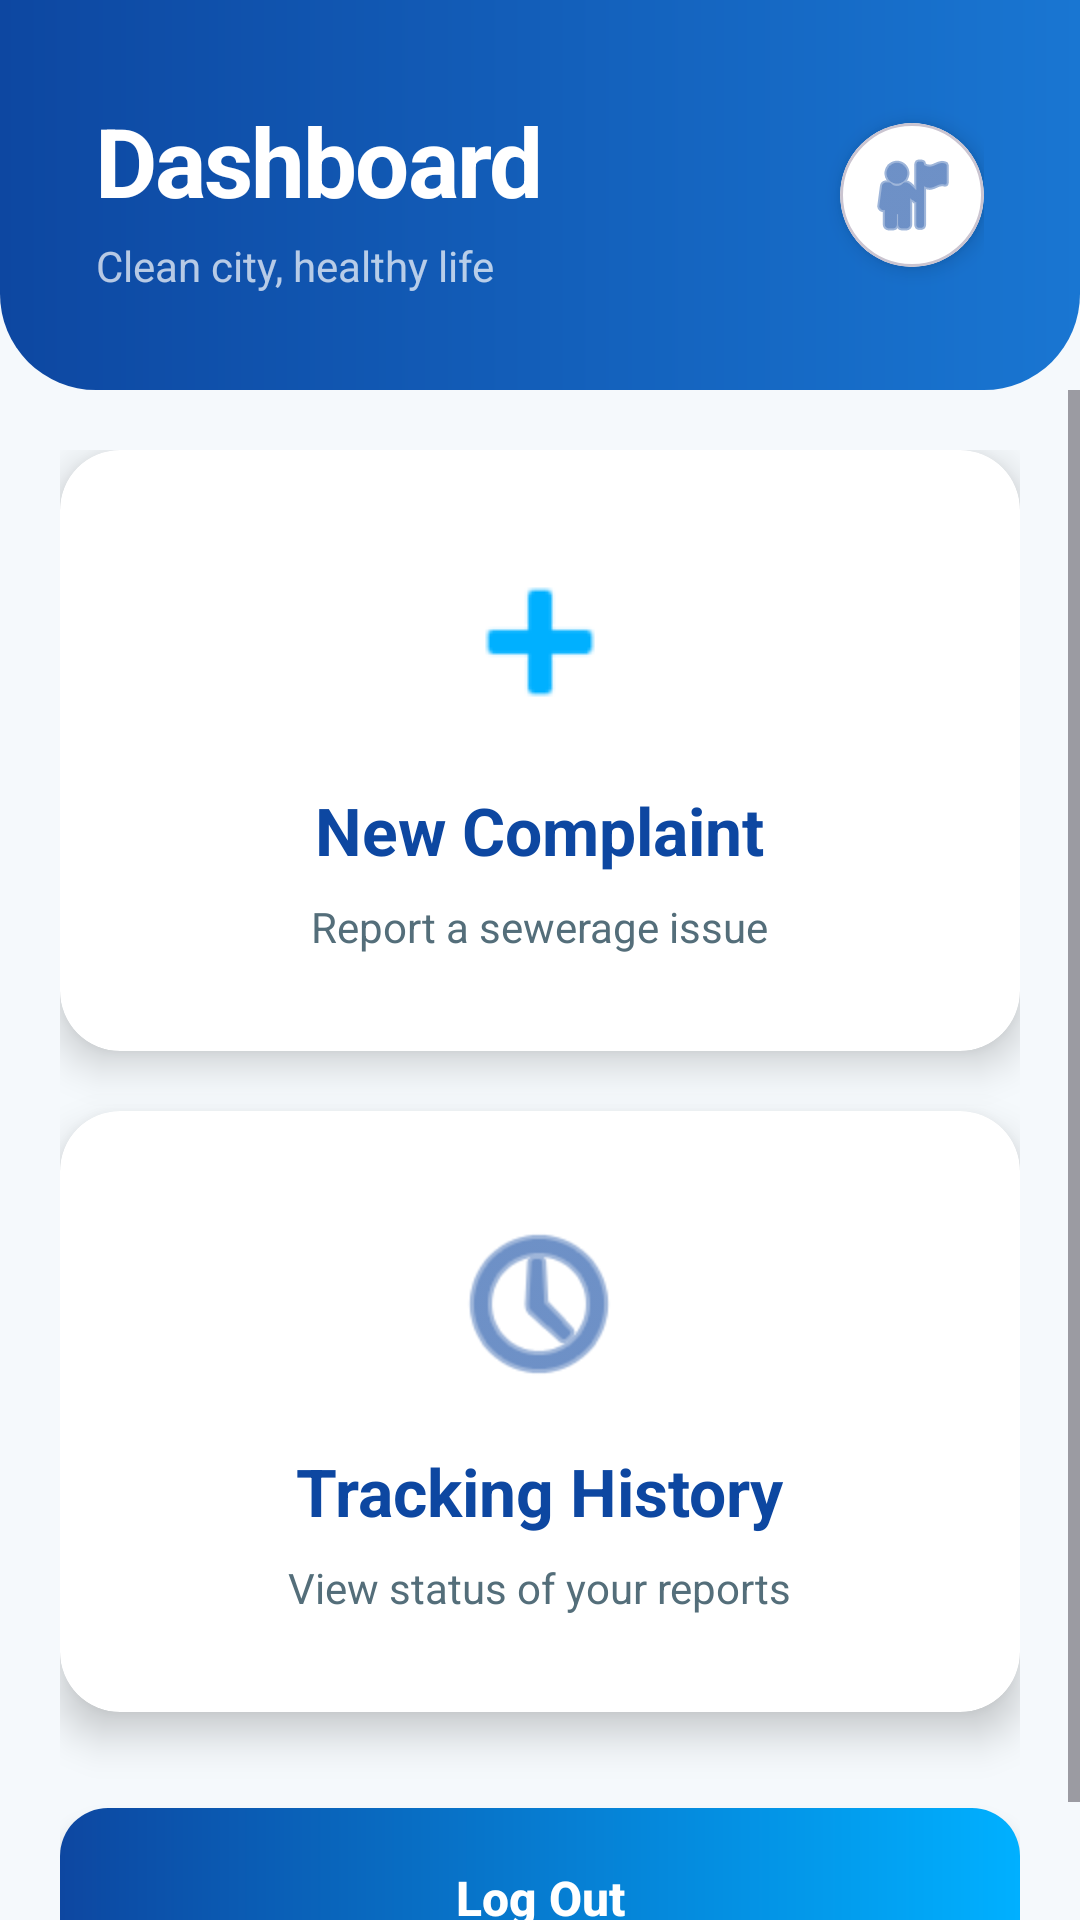

Locate icon controls on the screen. Image size 1080 × 1920, boxes as bbox=[x1, y1, x2, y2].
add: bbox=[485, 587, 595, 697]
recent history: bbox=[469, 1234, 609, 1374]
